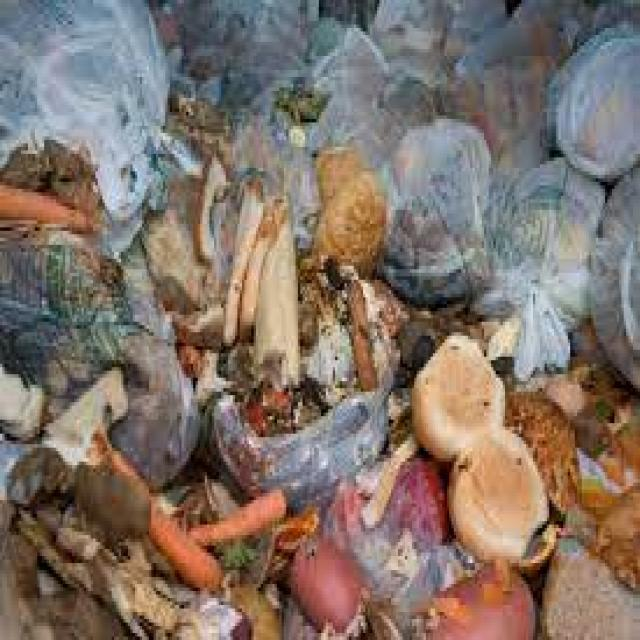Wet: (0, 120, 640, 640), (392, 298, 572, 592), (115, 468, 309, 594)
